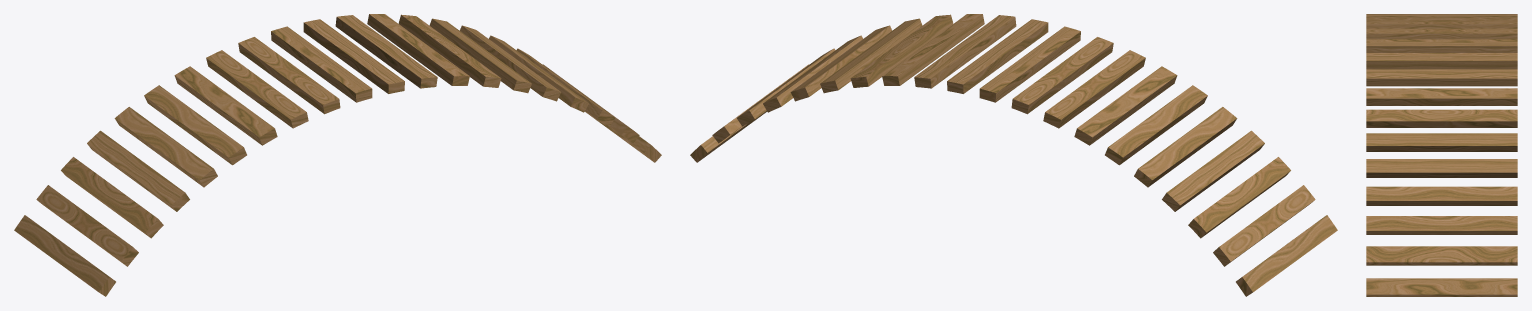
File: bridge_fixed.fbx
3 renders of one model, left to right at view 1: azimuth 30°, elevation 25°; view 2: azimuth 150°, elevation 25°; view 3: azimuth 270°, elevation 25°, orthographic. The views are drawn at different scales.
Parts seen in each view (by area): view 1: bridge_base1; view 2: bridge_base1; view 3: bridge_base1.
Boxes of the visible parts, <box> form: bridge_base1: <box>14,14,661,296</box>; bridge_base1: <box>690,14,1337,296</box>; bridge_base1: <box>1366,14,1517,296</box>.
Size of the model in its own units: 7.66 by 1.87 by 2.
1 material, 1 textured.
